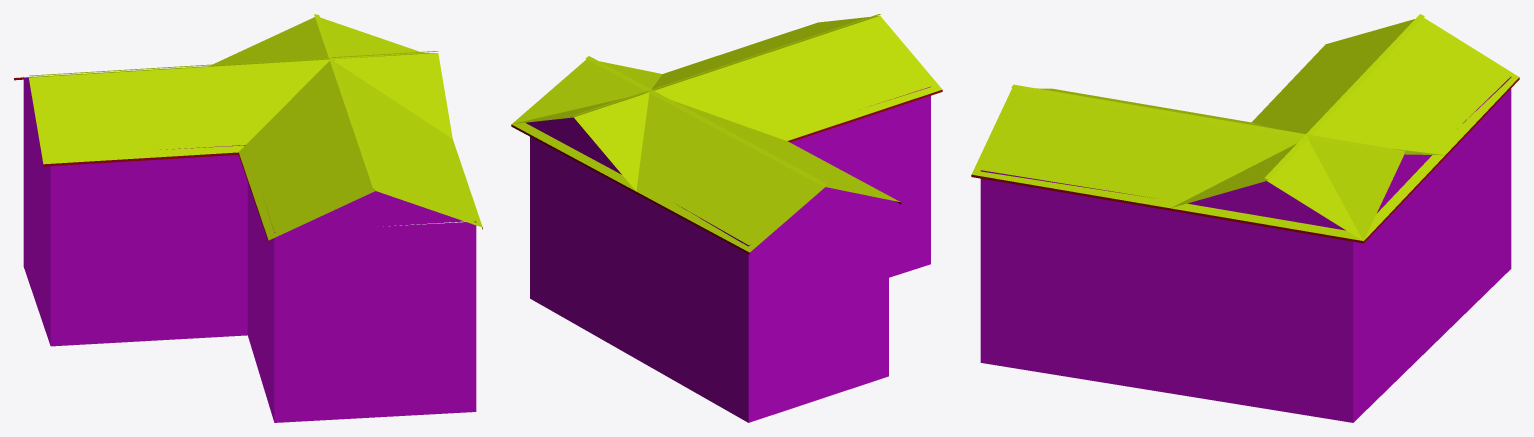
File: sdt_52.glb
The picture shows the model from 3 angles, left to right: view 1: azimuth 30°, elevation 25°; view 2: azimuth 150°, elevation 25°; view 3: azimuth 270°, elevation 25°; orthographic projection. The views are drawn at different scales.
Visible parts, largest first — view 1: sdt_52; view 2: sdt_52; view 3: sdt_52.
Boxes of the visible parts, left/top/right/bottom form: sdt_52: left=14, top=14, right=482, bottom=422; sdt_52: left=511, top=14, right=942, bottom=422; sdt_52: left=971, top=14, right=1519, bottom=422.
Bounding box in the file's own units: 21.03 × 11.71 × 24.72.
